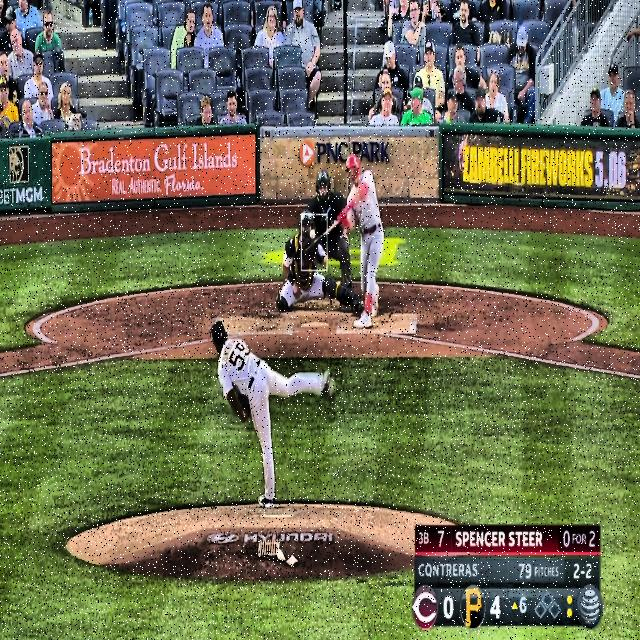baseball: (309, 229, 315, 240)
